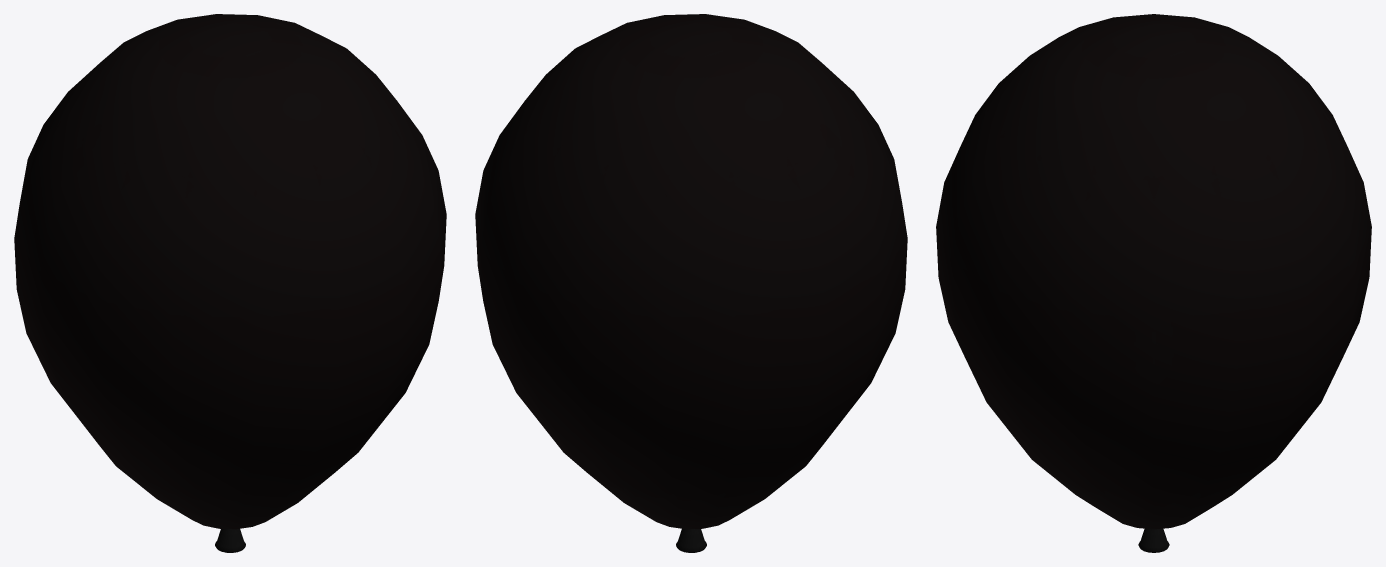
The model's file is PartyBalloons03_4.FBX.
The picture shows the model from 3 angles, left to right: view 1: azimuth 30°, elevation 25°; view 2: azimuth 150°, elevation 25°; view 3: azimuth 270°, elevation 25°; orthographic projection.
Parts seen in each view (by area): view 1: PartyBalloons03_4; view 2: PartyBalloons03_4; view 3: PartyBalloons03_4.
Part boxes in pixels (left/top/right/bottom): PartyBalloons03_4: left=14, top=14, right=446, bottom=552; PartyBalloons03_4: left=475, top=14, right=907, bottom=552; PartyBalloons03_4: left=936, top=14, right=1371, bottom=552.
Size of what is drawn, in the model's own units: 0.3546 by 0.4578 by 0.3546.
